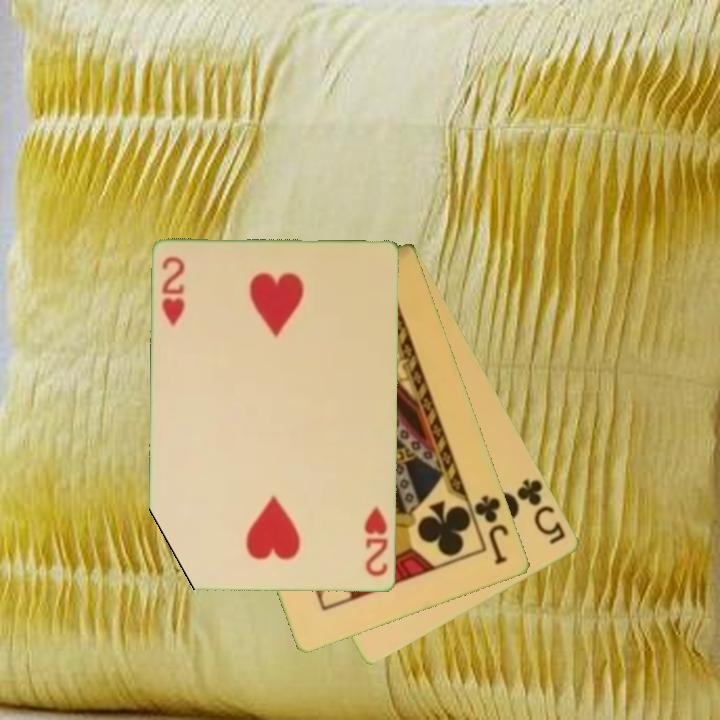2h: (158, 254, 189, 329), (361, 503, 391, 580)
5c: (510, 475, 569, 548)
Jc: (465, 491, 512, 568)
